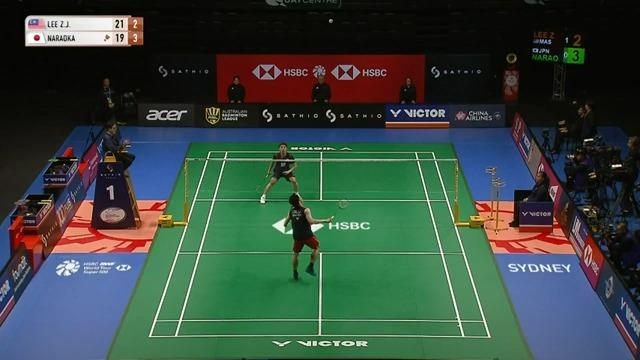Shuttlecock: (326, 16, 336, 24)
